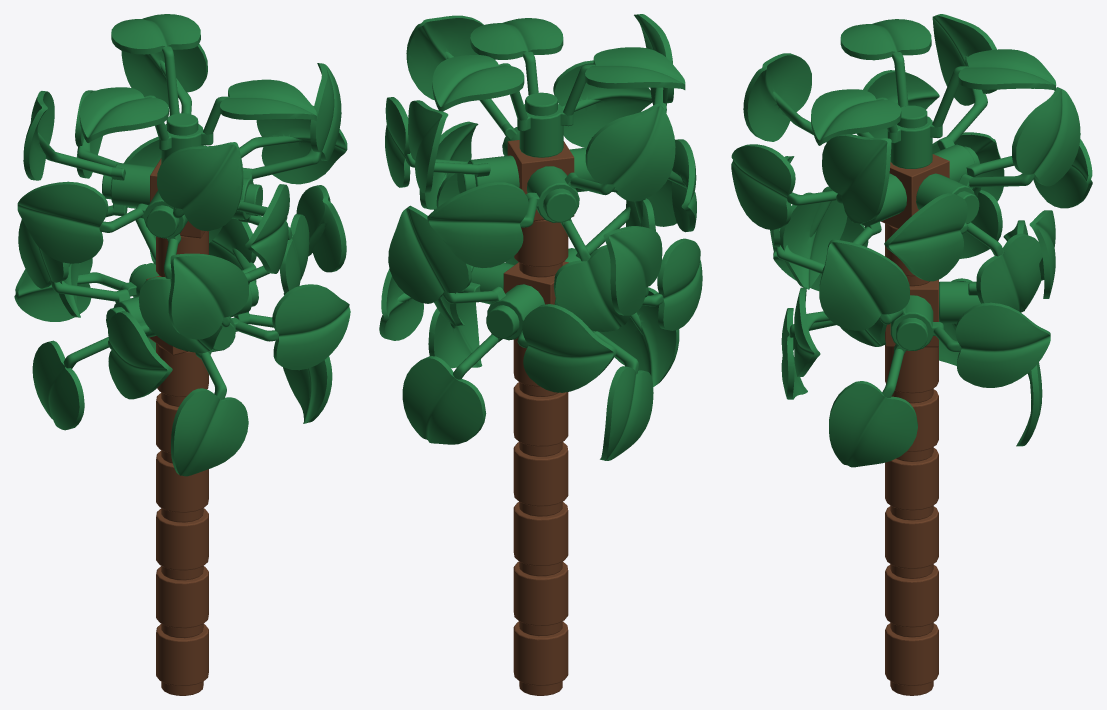
File: tree.fbx
3 views of the same model, side by side, from view 1: azimuth 30°, elevation 25°; view 2: azimuth 150°, elevation 25°; view 3: azimuth 270°, elevation 25° (orthographic). The views are drawn at different scales.
Visible parts, largest first — view 1: 00010_6255.dat, 00015_6255.dat, 00018_6255.dat, 00011_6255.dat, 00014_6255.dat, 00013_6255.dat, 00017_6255.dat, 00016_6255.dat, 00012_6255.dat, 00003_3062b.dat, 00002_3062b.dat, 00001_3062b.dat (+4 smaller); view 2: 00012_6255.dat, 00016_6255.dat, 00018_6255.dat, 00011_6255.dat, 00014_6255.dat, 00013_6255.dat, 00017_6255.dat, 00010_6255.dat, 00015_6255.dat, 00003_3062b.dat, 00001_3062b.dat, 00004_3062b.dat (+6 smaller); view 3: 00013_6255.dat, 00017_6255.dat, 00018_6255.dat, 00014_6255.dat, 00015_6255.dat, 00016_6255.dat, 00012_6255.dat, 00010_6255.dat, 00001_3062b.dat, 00003_3062b.dat, 00002_3062b.dat, 00004_3062b.dat (+5 smaller).
Part boxes in pixels (left/top/right/bottom): 00010_6255.dat: left=168, top=253, right=350, bottom=476; 00015_6255.dat: left=17, top=142, right=243, bottom=352; 00018_6255.dat: left=79, top=14, right=316, bottom=163; 00011_6255.dat: left=18, top=219, right=172, bottom=430; 00014_6255.dat: left=232, top=63, right=341, bottom=294; 00013_6255.dat: left=209, top=185, right=346, bottom=423; 00017_6255.dat: left=121, top=44, right=347, bottom=262; 00016_6255.dat: left=23, top=90, right=155, bottom=317; 00012_6255.dat: left=14, top=137, right=161, bottom=351; 00003_3062b.dat: left=156, top=508, right=208, bottom=580; 00002_3062b.dat: left=156, top=566, right=208, bottom=638; 00001_3062b.dat: left=156, top=624, right=208, bottom=695; 00012_6255.dat: left=388, top=205, right=616, bottom=444; 00016_6255.dat: left=427, top=103, right=675, bottom=331; 00018_6255.dat: left=432, top=18, right=685, bottom=157; 00011_6255.dat: left=554, top=226, right=702, bottom=460; 00014_6255.dat: left=406, top=15, right=652, bottom=207; 00013_6255.dat: left=379, top=121, right=514, bottom=368; 00017_6255.dat: left=385, top=97, right=519, bottom=325; 00010_6255.dat: left=505, top=179, right=679, bottom=386; 00015_6255.dat: left=569, top=14, right=696, bottom=232; 00003_3062b.dat: left=513, top=502, right=568, bottom=576; 00001_3062b.dat: left=513, top=621, right=568, bottom=695; 00004_3062b.dat: left=513, top=442, right=568, bottom=516; 00013_6255.dat: left=819, top=239, right=1050, bottom=467; 00017_6255.dat: left=884, top=87, right=1080, bottom=312; 00018_6255.dat: left=811, top=19, right=1056, bottom=168; 00014_6255.dat: left=731, top=134, right=906, bottom=346; 00015_6255.dat: left=743, top=53, right=939, bottom=289; 00016_6255.dat: left=932, top=14, right=1092, bottom=258; 00012_6255.dat: left=939, top=210, right=1055, bottom=446; 00010_6255.dat: left=770, top=156, right=836, bottom=399; 00001_3062b.dat: left=885, top=623, right=938, bottom=695; 00003_3062b.dat: left=885, top=506, right=938, bottom=578; 00002_3062b.dat: left=885, top=565, right=938, bottom=637; 00004_3062b.dat: left=885, top=448, right=938, bottom=520.
Bounding box in the file's own units: 5.38 × 5.38 × 10.38.
